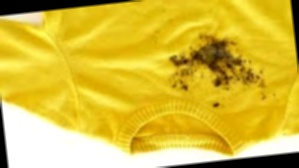earth: (165, 30, 259, 94)
